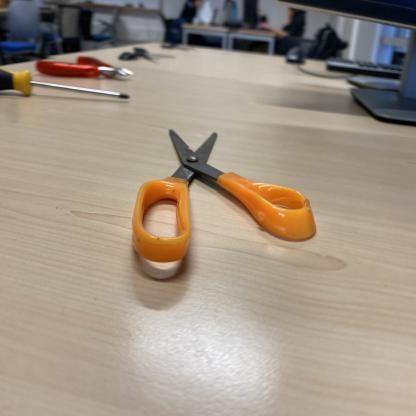scissors: (130, 128, 319, 263), (119, 45, 177, 66)
